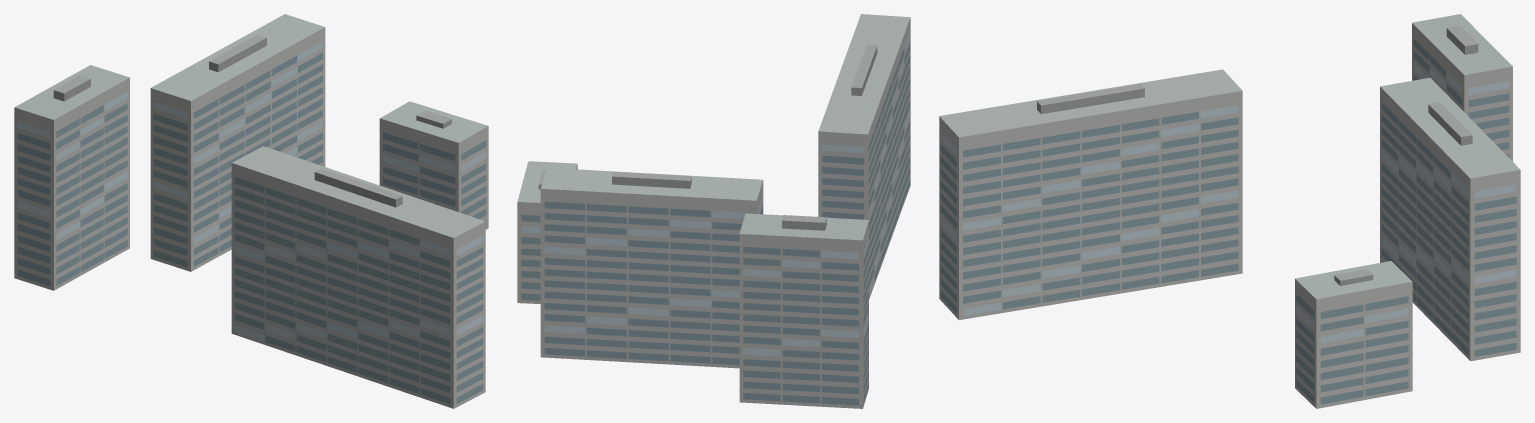
Rendered from apt-a13991017.glb.
The picture shows the model from 3 angles, left to right: view 1: azimuth 30°, elevation 25°; view 2: azimuth 150°, elevation 25°; view 3: azimuth 270°, elevation 25°; orthographic projection. The views are drawn at different scales.
Visible parts, largest first — view 1: apt-a13991017; view 2: apt-a13991017; view 3: apt-a13991017.
Boxes of the visible parts, <box> form: apt-a13991017: <box>14,14,488,408</box>; apt-a13991017: <box>517,14,910,408</box>; apt-a13991017: <box>939,14,1520,408</box>.
Bounding box in the file's own units: 95.14 × 40 × 110.
